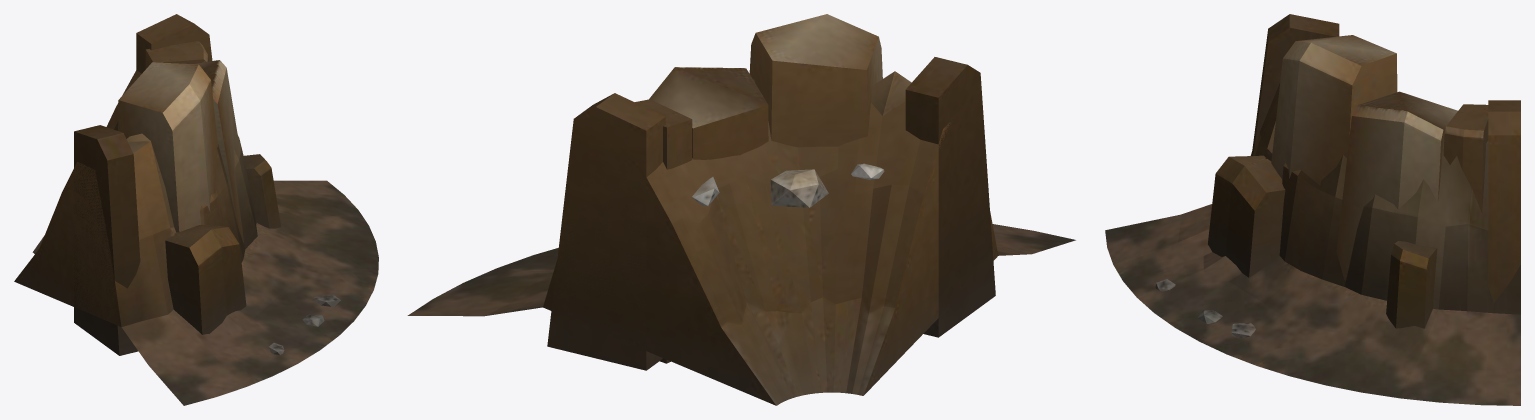
File: cliff-outer.glb
The picture shows the model from 3 angles, left to right: view 1: azimuth 30°, elevation 25°; view 2: azimuth 150°, elevation 25°; view 3: azimuth 270°, elevation 25°; orthographic projection. The views are drawn at different scales.
Visible parts, largest first — view 1: cliff-outer; view 2: cliff-outer; view 3: cliff-outer.
Part boxes in pixels (x1,y1,x2,y2): cliff-outer: [14, 14, 378, 405]; cliff-outer: [407, 14, 1075, 405]; cliff-outer: [1105, 14, 1520, 405].
Bounding box in the file's own units: 3.85 × 2.46 × 3.85.
Materials: 3 (3 with a texture image).
